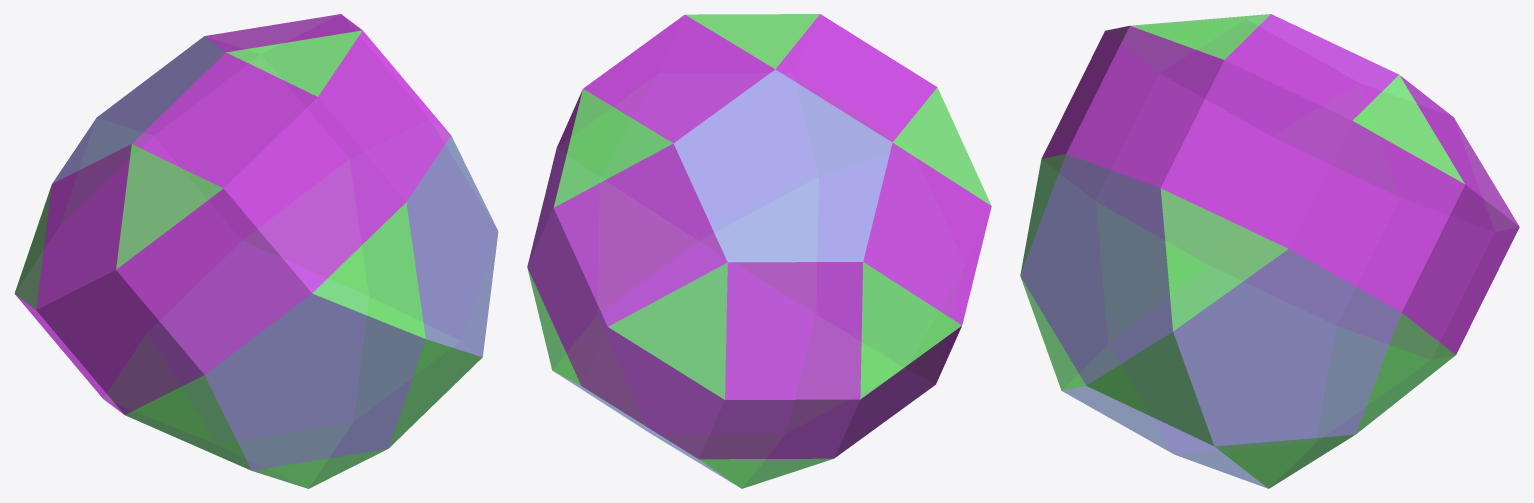
File: j40_elongated_pentagonal_orthocupolarotunda.obj
3 renders of one model, left to right at view 1: azimuth 30°, elevation 25°; view 2: azimuth 150°, elevation 25°; view 3: azimuth 270°, elevation 25°, orthographic. The views are drawn at different scales.
Size of the model in its own units: 2 by 1.94 by 2.03.
